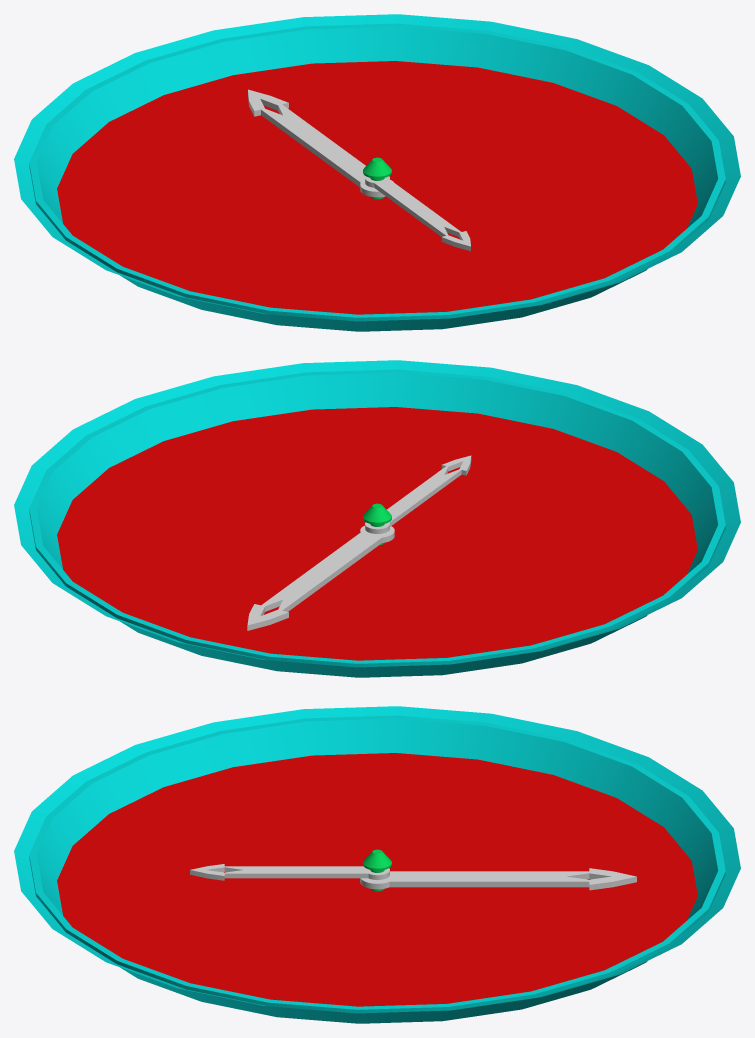
File: Clock.fbx
The picture shows the model from 3 angles, top to bottom: view 1: azimuth 30°, elevation 25°; view 2: azimuth 150°, elevation 25°; view 3: azimuth 270°, elevation 25°; orthographic projection.
Visible parts, largest first — view 1: Clock.001, Minute, HourClockArm; view 2: Clock.001, Minute, HourClockArm; view 3: Clock.001, Minute, HourClockArm.
Boxes of the visible parts, box(x1,y1,x2,y2) form: Clock.001: box(14, 14, 740, 331); Minute: box(248, 89, 393, 197); HourClockArm: box(365, 176, 470, 251); Clock.001: box(14, 360, 740, 677); Minute: box(247, 525, 394, 630); HourClockArm: box(365, 455, 471, 533); Clock.001: box(14, 706, 740, 1023); Minute: box(360, 868, 636, 890); HourClockArm: box(190, 864, 389, 880).
Bounding box in the file's own units: 1280 × 71.01 × 1280.
